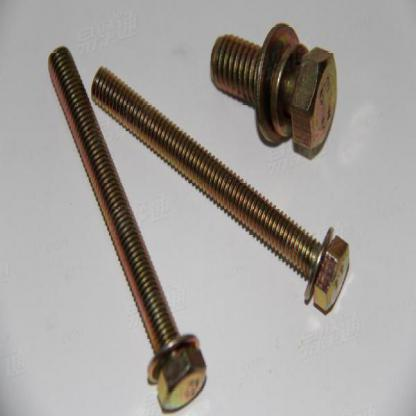FOD: (91, 66, 349, 316), (44, 46, 207, 411), (209, 22, 340, 158)
